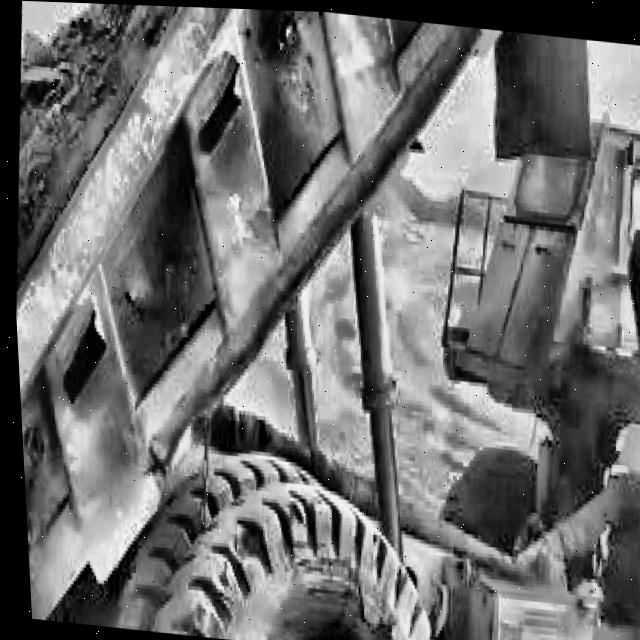dump_truck: (13, 5, 640, 640)
